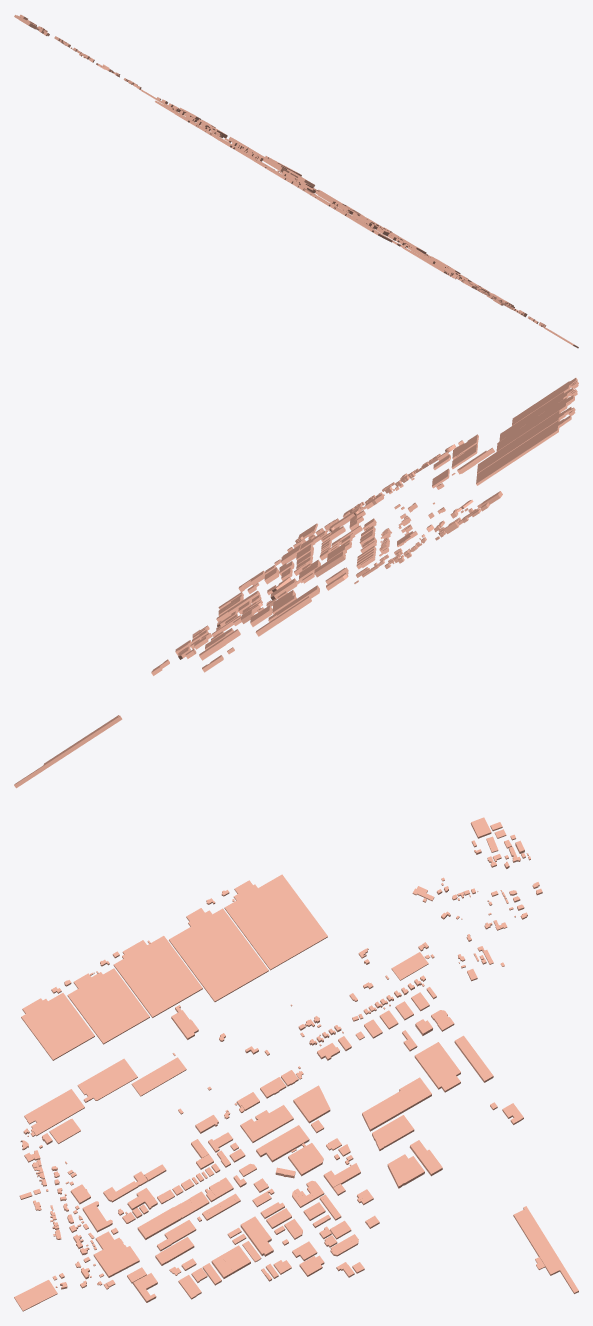
3 views of the same model, one above another, from view 1: azimuth 30°, elevation 25°; view 2: azimuth 150°, elevation 25°; view 3: azimuth 270°, elevation 25° (orthographic). The views are drawn at different scales.
Bounding box in the file's own units: 1030 × 742 × 1261.
